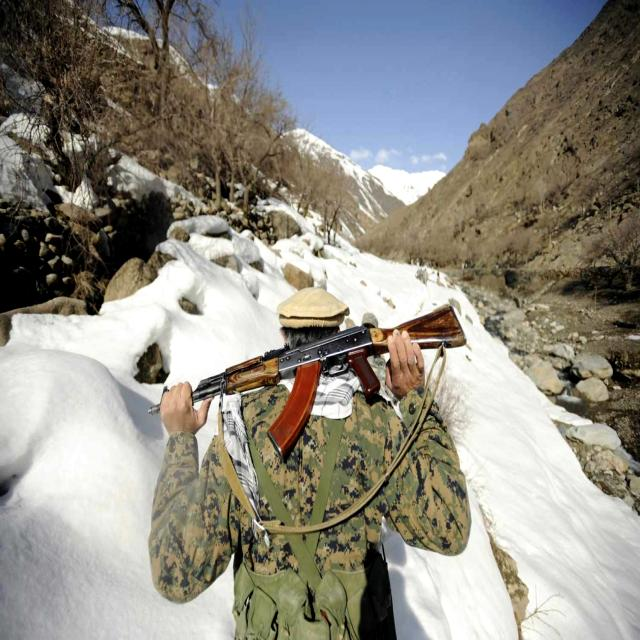ak: (152, 289, 474, 462)
